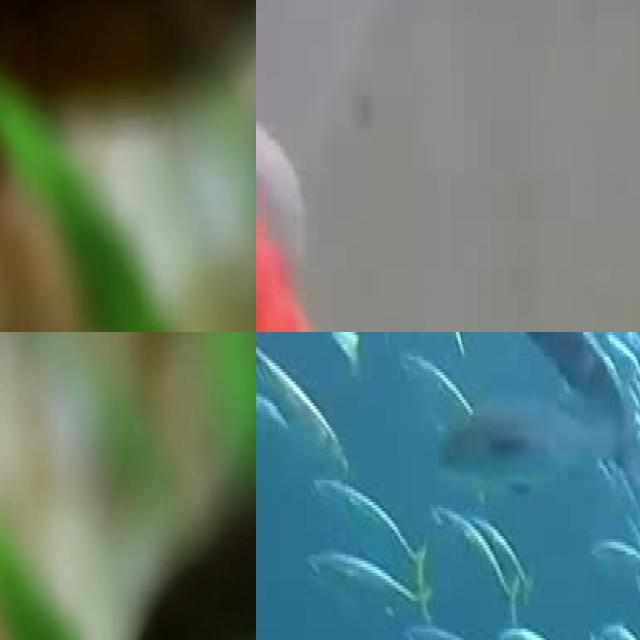fish: (0, 0, 256, 332), (111, 383, 256, 640)
